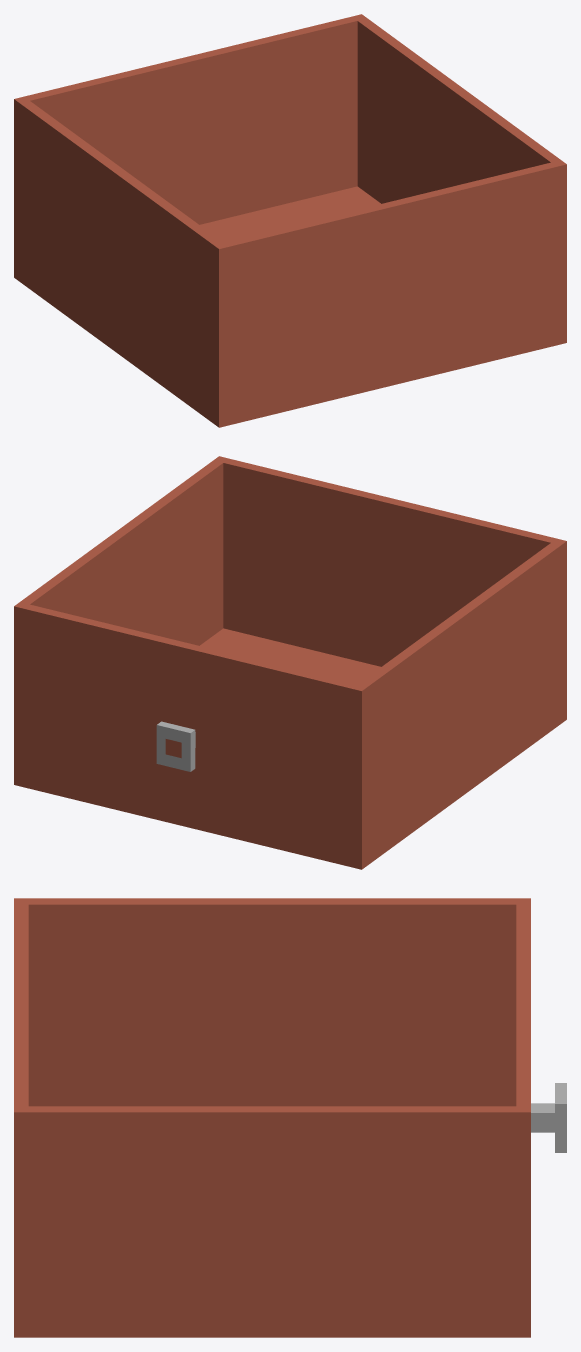
The model's file is szuflada.fbx.
The picture shows the model from 3 angles, top to bottom: view 1: azimuth 30°, elevation 25°; view 2: azimuth 150°, elevation 25°; view 3: azimuth 270°, elevation 25°; orthographic projection. The views are drawn at different scales.
Visible parts, largest first — view 1: Kostka.001; view 2: Kostka.001; view 3: Kostka.001.
Boxes of the visible parts, x1,y1,x2,y2 form: Kostka.001: (14, 14, 566, 427); Kostka.001: (14, 456, 566, 869); Kostka.001: (14, 898, 566, 1337).
Bounding box in the file's own units: 1.84 × 0.9023 × 2.01.
